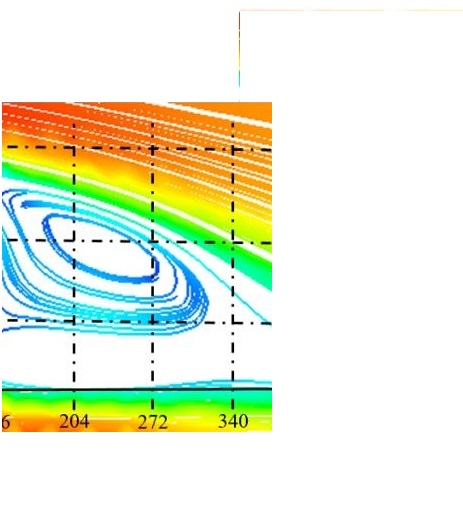vortox: (2, 190, 209, 335)
